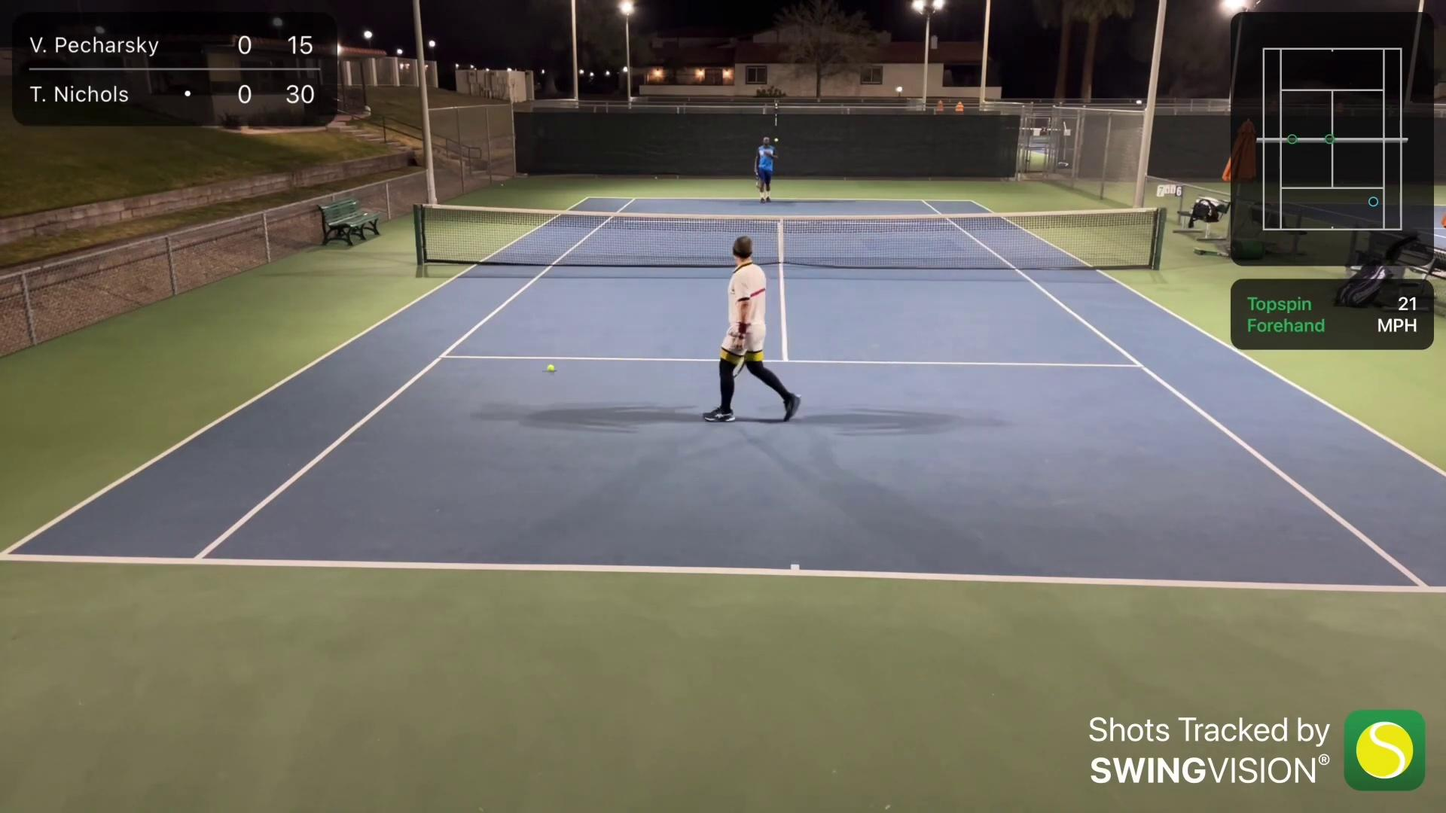ball: (543, 364, 559, 373), (773, 137, 779, 143)
